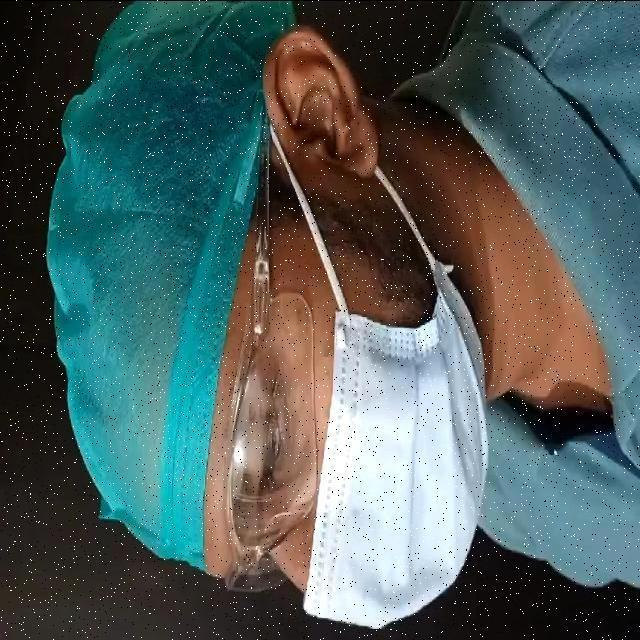gloves: (14, 18, 324, 570)
mask: (317, 261, 530, 640)
